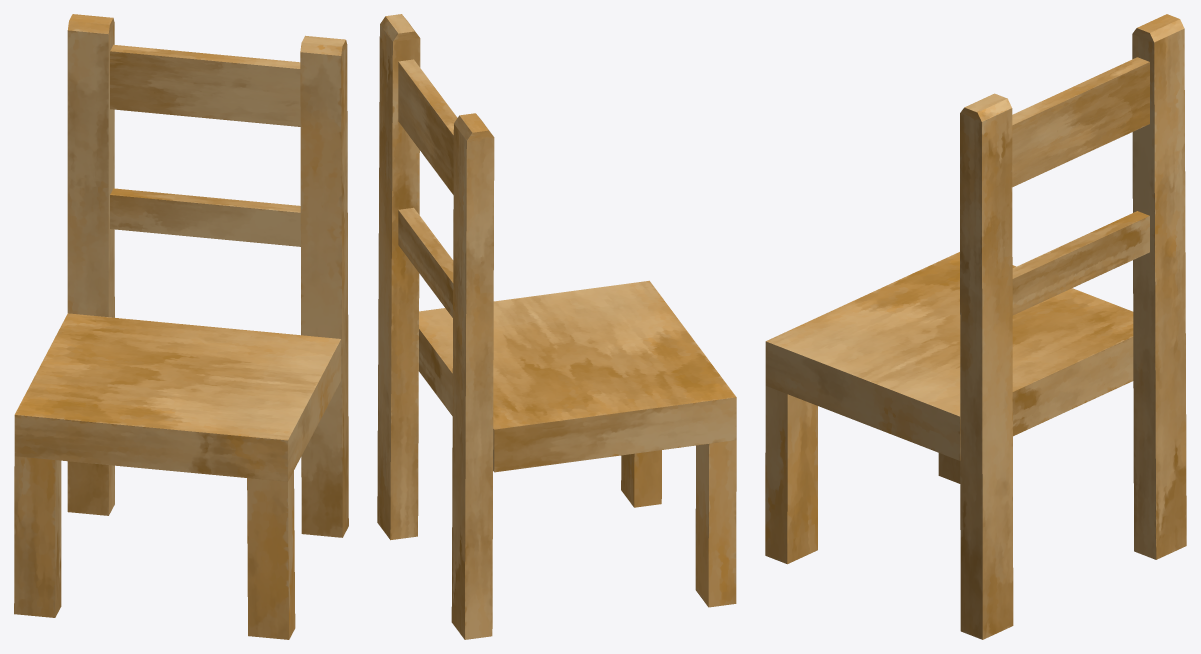
File: Chair.fbx
3 renders of one model, left to right at view 1: azimuth 30°, elevation 25°; view 2: azimuth 150°, elevation 25°; view 3: azimuth 270°, elevation 25°, orthographic. The views are drawn at different scales.
Visible parts, largest first — view 1: Chair; view 2: Chair; view 3: Chair.
Boxes of the visible parts, x1,y1,x2,y2 form: Chair: (14,14,348,639); Chair: (377,14,736,639); Chair: (765,14,1186,639).
Bounding box in the file's own units: 188 × 257 × 187.
1 material, 1 textured.
